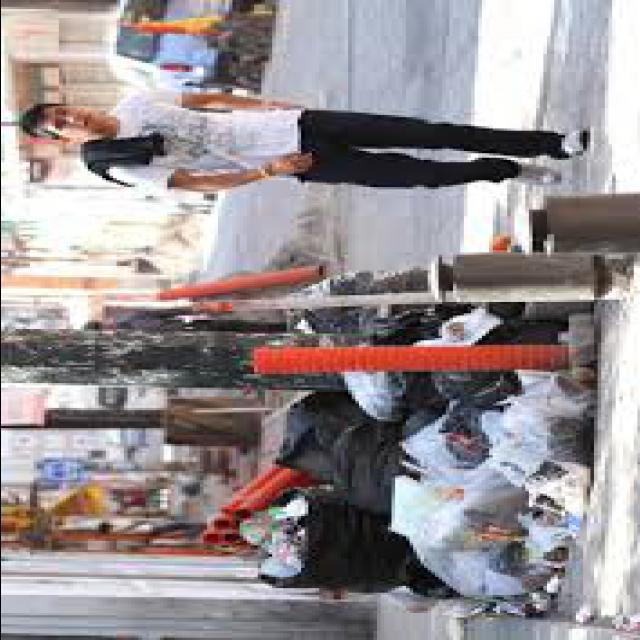Trashbag: (247, 409, 419, 515), (244, 493, 414, 582)
